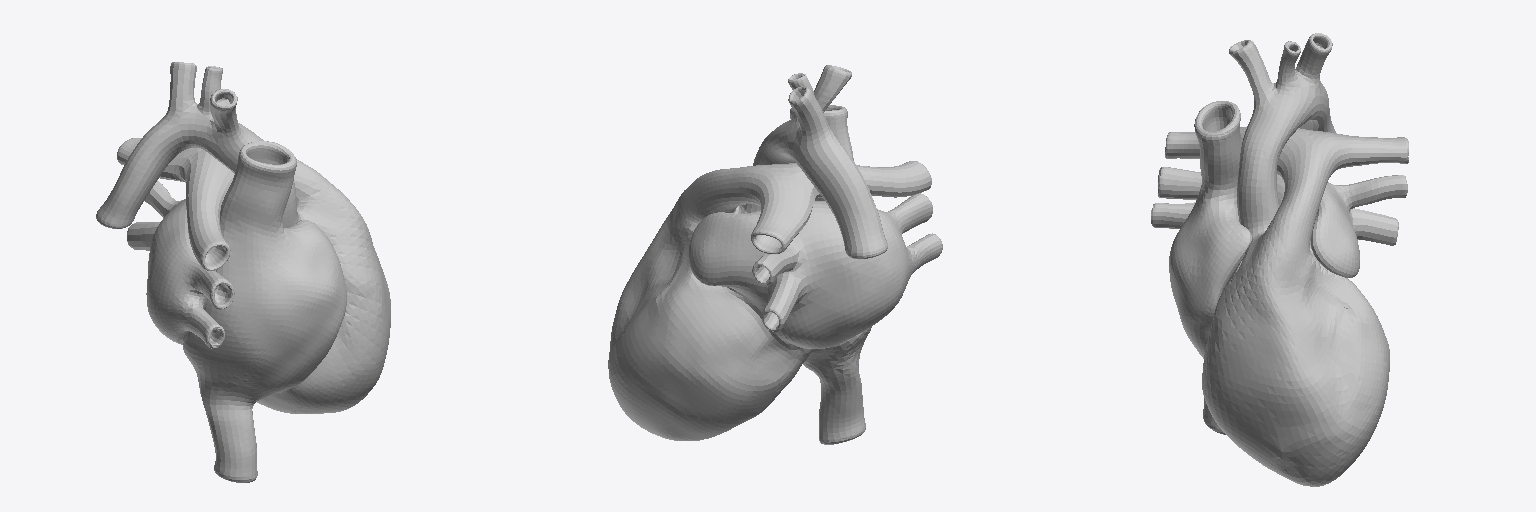
3 views of the same model, side by side, from view 1: azimuth 30°, elevation 25°; view 2: azimuth 150°, elevation 25°; view 3: azimuth 270°, elevation 25° (orthographic).
Parts seen in each view (by area): view 1: HEART_PRO; view 2: HEART_PRO; view 3: HEART_PRO.
Part boxes in pixels (x1,y1,x2,y2): HEART_PRO: (96,62,390,482); HEART_PRO: (608,65,942,444); HEART_PRO: (1151,33,1408,486).
Bounding box in the file's own units: 602 × 818 × 493.